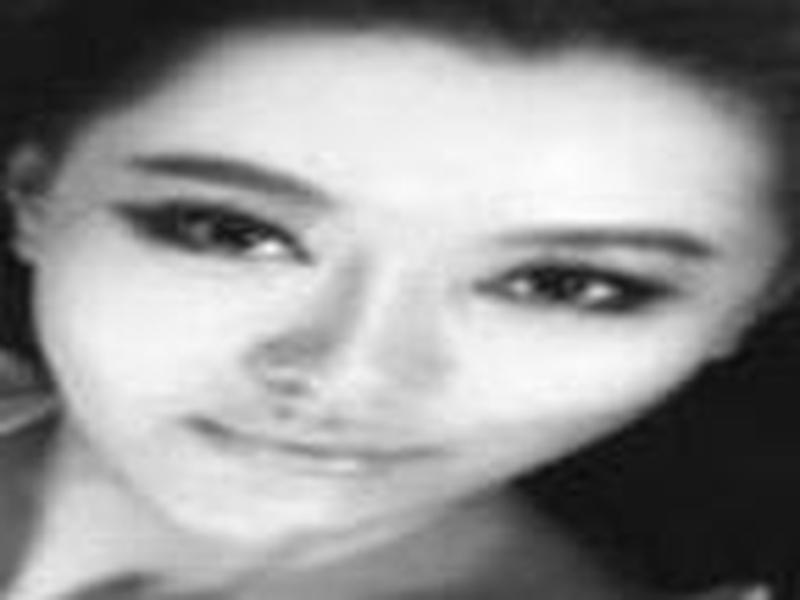without_mask: (36, 25, 765, 565)
